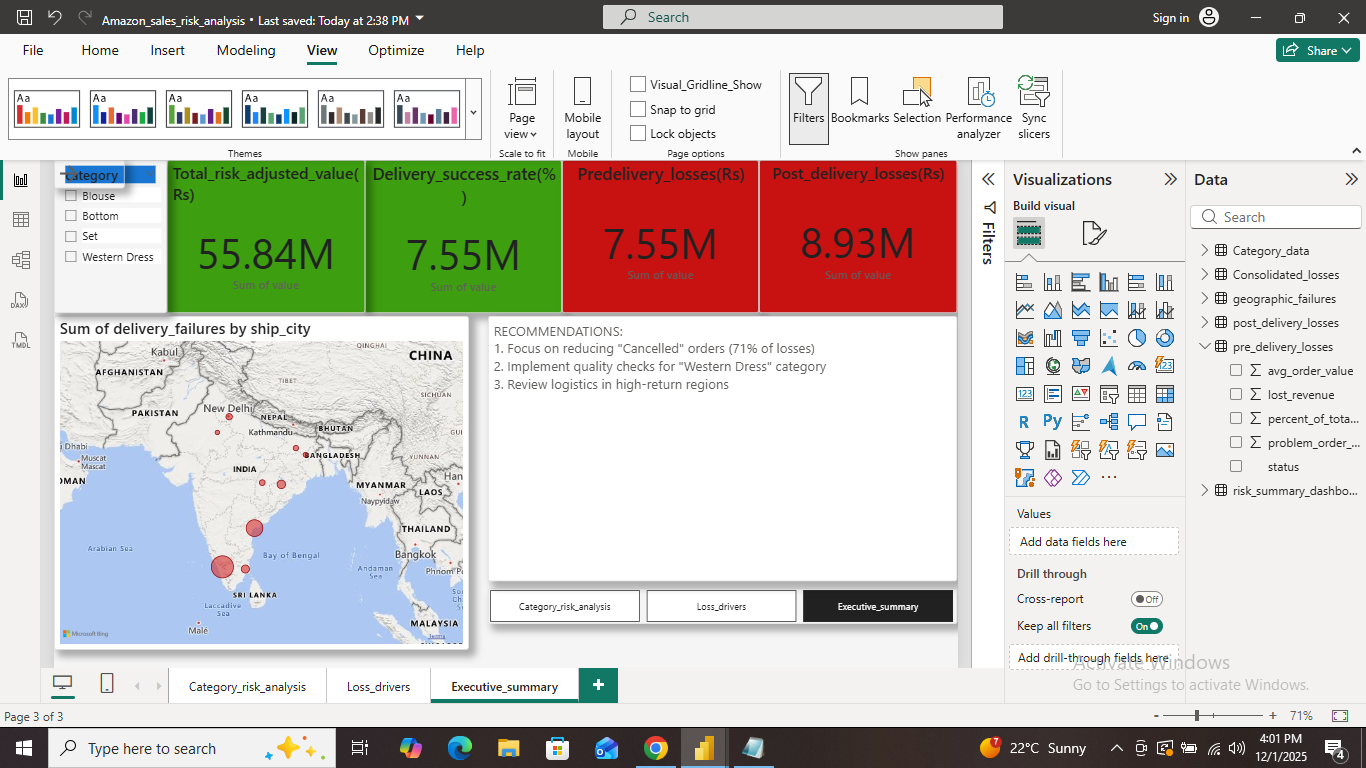

This screenshot's page, from the dashboard's own definition file:
{"tool":"powerbi","page":{"name":"Executive_summary","canvas":[1280,720],"ordinal":2},"visuals":[{"type":"card","title":"Delivery_success_rate(%)","fields":{"Values":["risk_summary_dashboard.value"]},"box":[440.6,0,279.4,217.4],"z":0},{"type":"card","title":"Total_risk_adjusted_value(Rs)","fields":{"Values":["risk_summary_dashboard.value"]},"box":[160.2,0,280.6,216.9],"z":1000},{"type":"card","title":"Predelivery_losses(Rs)","fields":{"Values":["risk_summary_dashboard.value"]},"box":[720,0,279.4,217.4],"z":2000},{"type":"card","title":"Post_delivery_losses(Rs)","fields":{"Values":["risk_summary_dashboard.value"]},"box":[999.4,0,280.8,217.4],"z":3000},{"type":"map","fields":{"Category":["geographic_failures.ship_city"],"Size":["geographic_failures.delivery_failures"]},"box":[0,221.1,588.2,473.4],"z":4000},{"type":"slicer","fields":{"Values":["geographic_failures.category"]},"box":[0,0,159.8,217.4],"z":5000},{"type":"actionButton","box":[0,0,100,40],"z":5001},{"type":"pageNavigator","box":[615.1,669,664.7,51],"z":5002},{"type":"textbox","box":[615.1,221.1,664.7,435.1],"z":5003}]}

Visuals, with their boxes on the page's 1280x720 design canvas (x1, y1, x2, y2). These are canvas units, not pixel positions in the 1366x768 screenshot, which may show the page scaled, cropped or inside an application window:
"Delivery_success_rate(%)" card: bbox=(441, 0, 720, 217)
"Total_risk_adjusted_value(Rs)" card: bbox=(160, 0, 441, 217)
"Predelivery_losses(Rs)" card: bbox=(720, 0, 999, 217)
"Post_delivery_losses(Rs)" card: bbox=(999, 0, 1280, 217)
map - geographic_failures.ship_city x geographic_failures.delivery_failures: bbox=(0, 221, 588, 694)
slicer - geographic_failures.category: bbox=(0, 0, 160, 217)
actionButton: bbox=(0, 0, 100, 40)
pageNavigator: bbox=(615, 669, 1280, 720)
textbox: bbox=(615, 221, 1280, 656)
